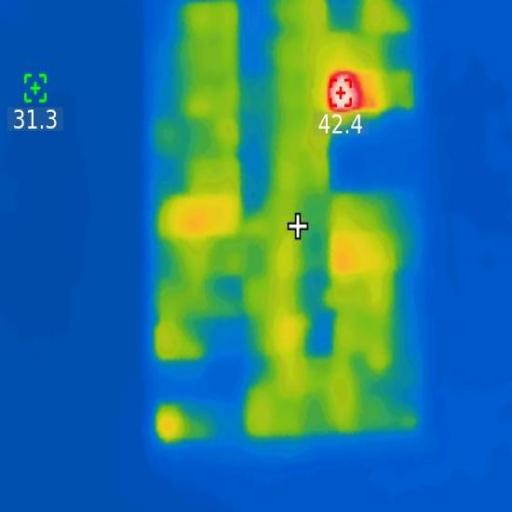hotspot: (327, 68, 366, 115)
